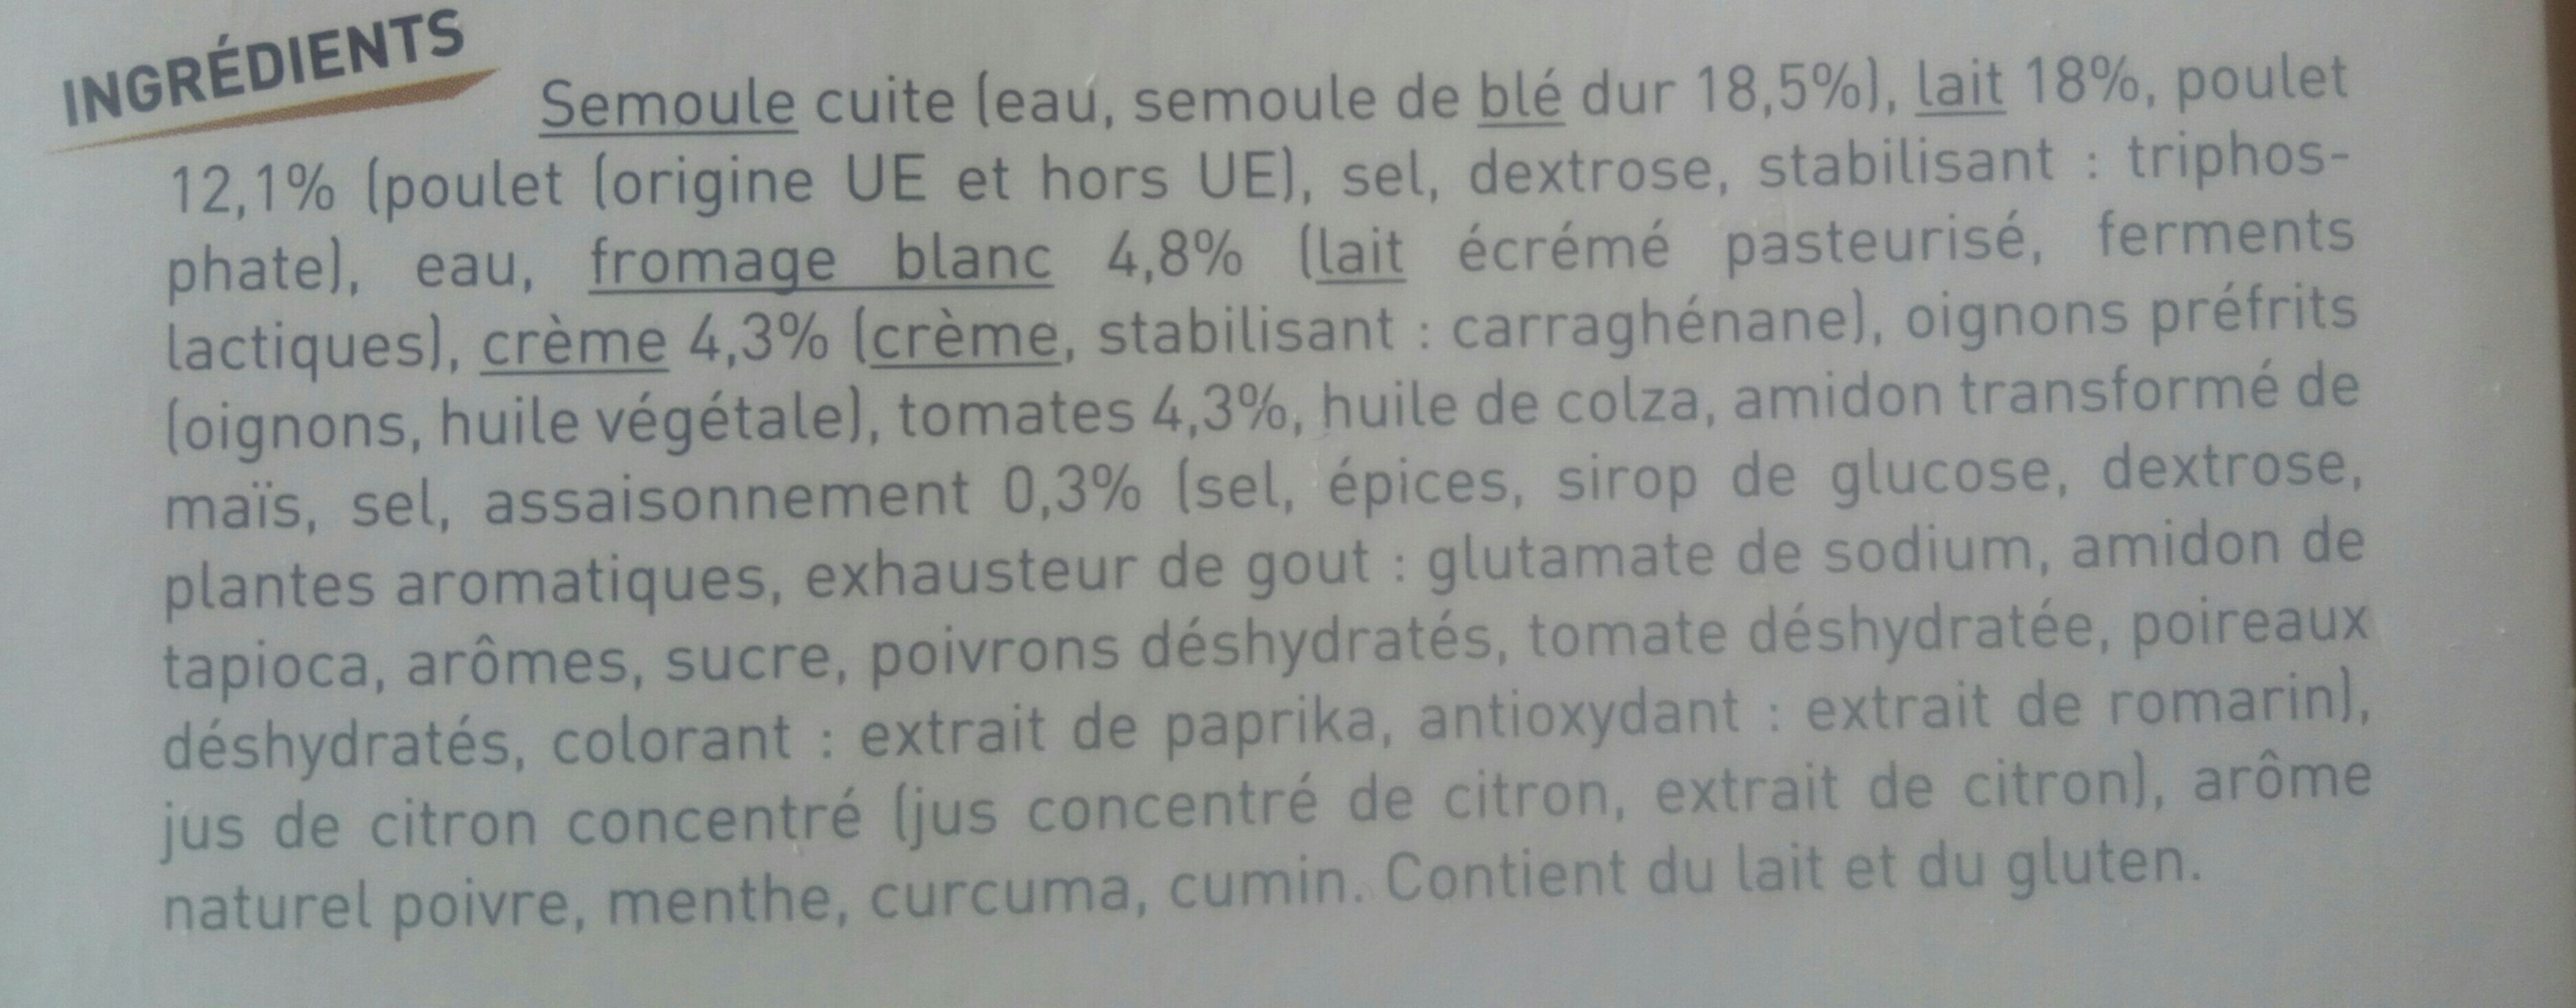ingredients: (39, 10, 2502, 949)
